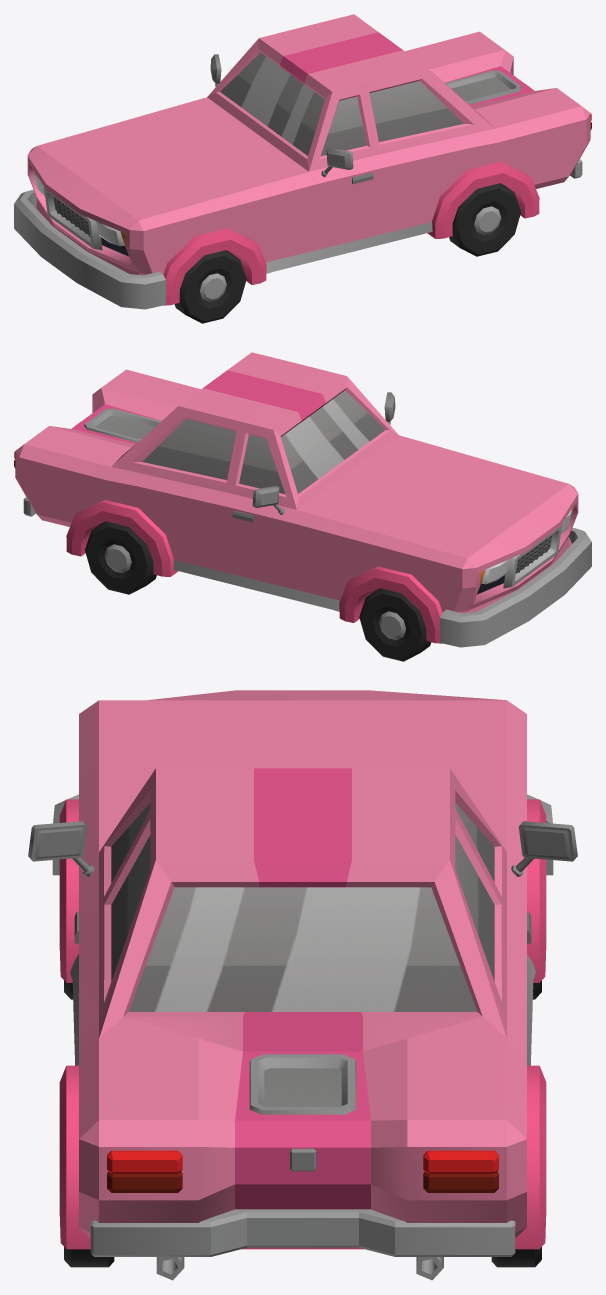
The model's file is Car_18_E.gltf.
3 renders of one model, top to bottom at view 1: azimuth 30°, elevation 25°; view 2: azimuth 150°, elevation 25°; view 3: azimuth 270°, elevation 25°, orthographic. The views are drawn at different scales.
Parts seen in each view (by area): view 1: Car_18_E, RL, FL; view 2: Car_18_E, RR, FR; view 3: Car_18_E.
Boxes of the visible parts, left/top/right/bottom form: Car_18_E: left=14, top=14, right=591, bottom=309; RL: left=449, top=183, right=520, bottom=256; FL: left=174, top=250, right=246, bottom=323; Car_18_E: left=14, top=352, right=591, bottom=647; RR: left=85, top=521, right=156, bottom=594; FR: left=359, top=588, right=431, bottom=661; Car_18_E: left=28, top=690, right=577, bottom=1280.
Bounding box in the file's own units: 3.78 × 1.34 × 1.85.
Materials: 3 (3 with a texture image).
